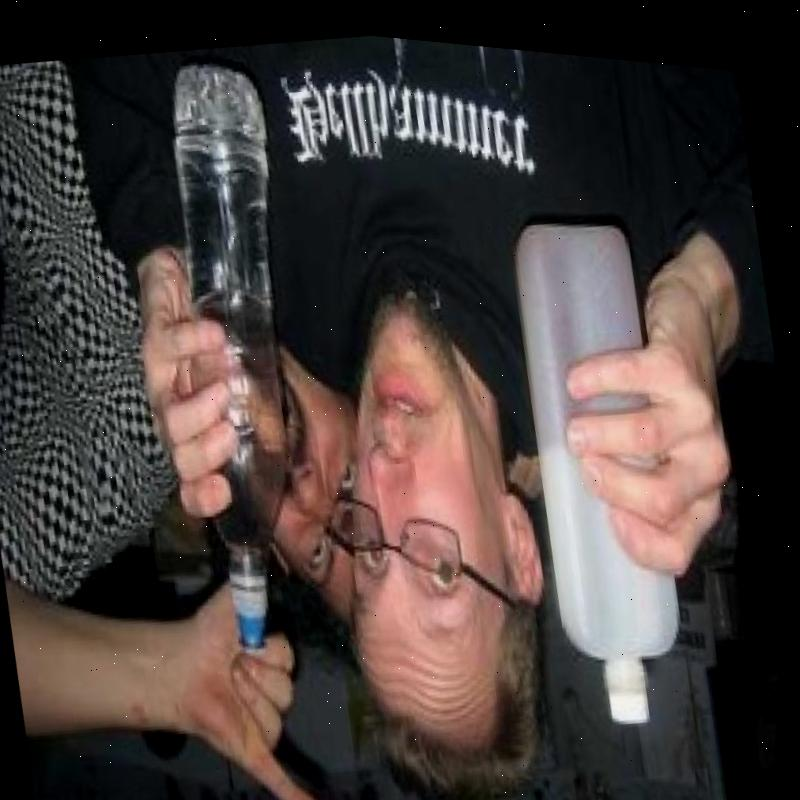botella: (123, 43, 360, 657)
